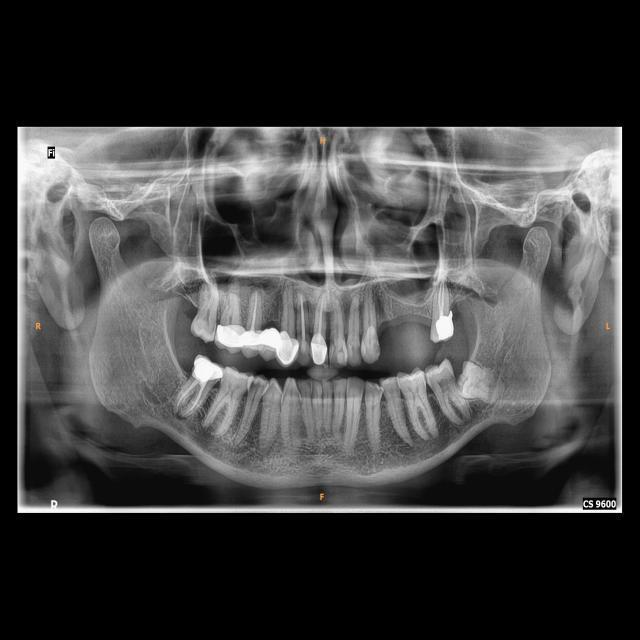dentin-curugu: (435, 367, 462, 400), (248, 373, 270, 398)
kanal-tedavisi: (173, 380, 206, 417), (296, 294, 312, 344), (246, 289, 263, 330), (313, 296, 329, 338), (435, 279, 450, 316)
kaplama: (188, 352, 223, 384), (214, 321, 249, 348), (429, 314, 457, 342), (279, 329, 299, 363), (309, 335, 328, 365), (244, 330, 265, 356)
kopru: (251, 326, 288, 350)
